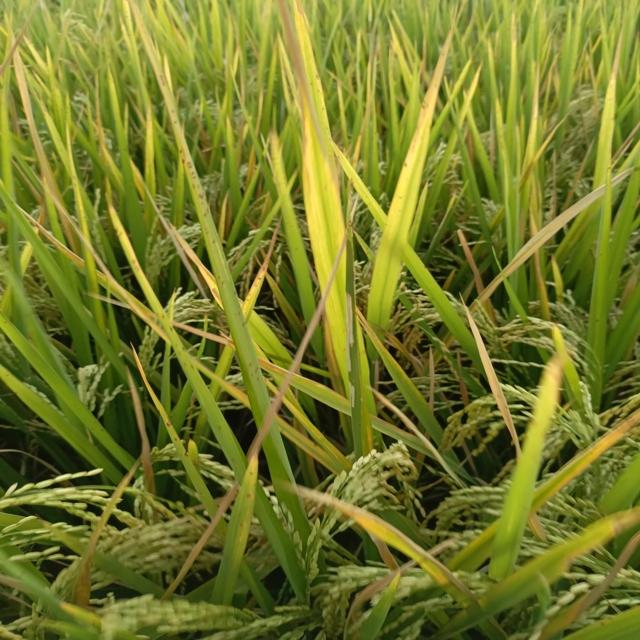Brown spot: (451, 406, 640, 569)
